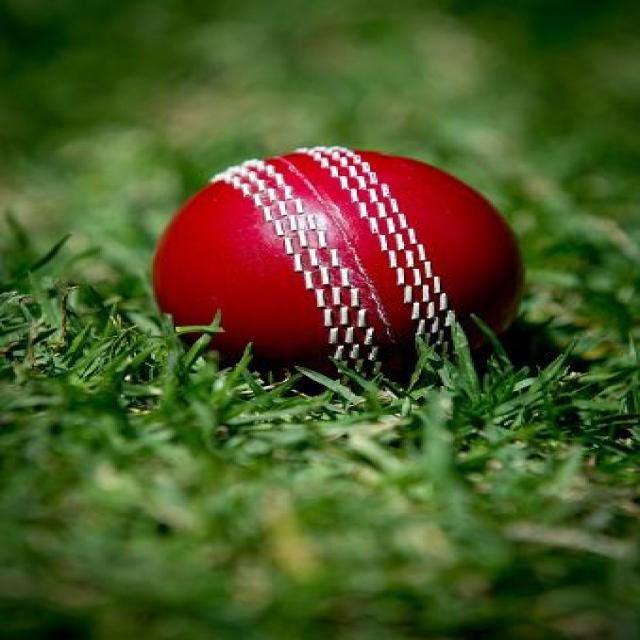ball: (151, 146, 529, 378)
